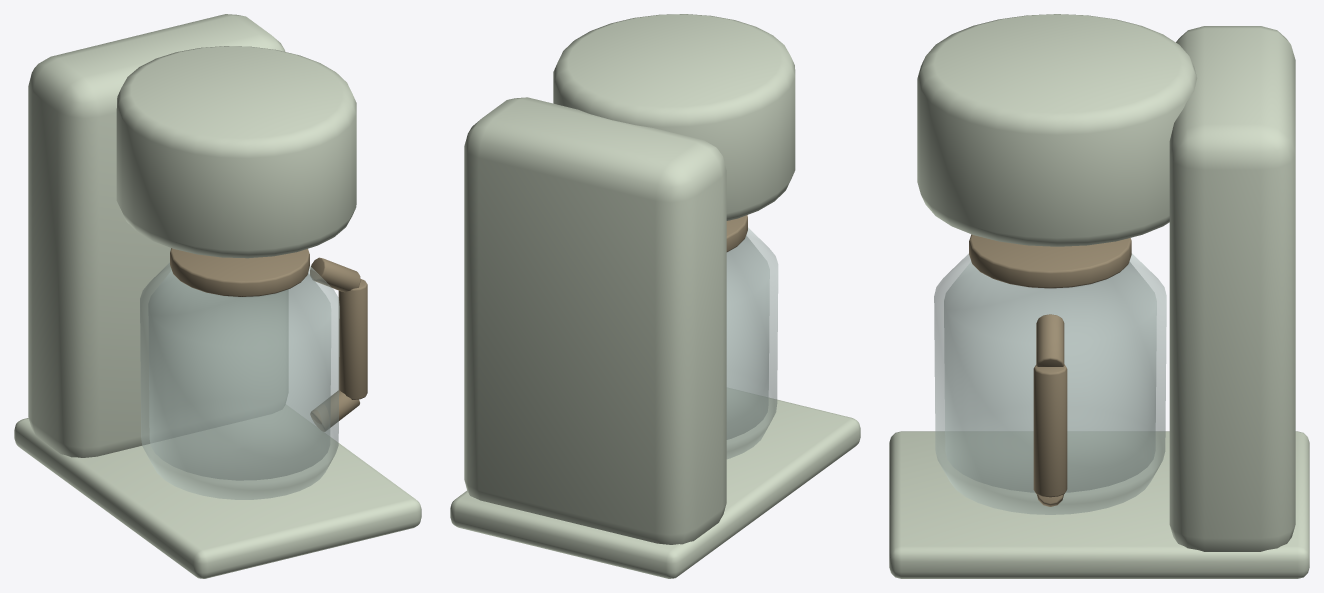
The model's file is filter-coffee-maker.glb.
3 renders of one model, left to right at view 1: azimuth 30°, elevation 25°; view 2: azimuth 150°, elevation 25°; view 3: azimuth 270°, elevation 25°, orthographic. The views are drawn at different scales.
Parts seen in each view (by area): view 1: filter-coffee-maker; view 2: filter-coffee-maker; view 3: filter-coffee-maker.
Part boxes in pixels (x1,y1,x2,y2): filter-coffee-maker: [14, 14, 421, 578]; filter-coffee-maker: [450, 14, 860, 578]; filter-coffee-maker: [889, 14, 1309, 578].
Bounding box in the file's own units: 0.22 × 0.36 × 0.3.
